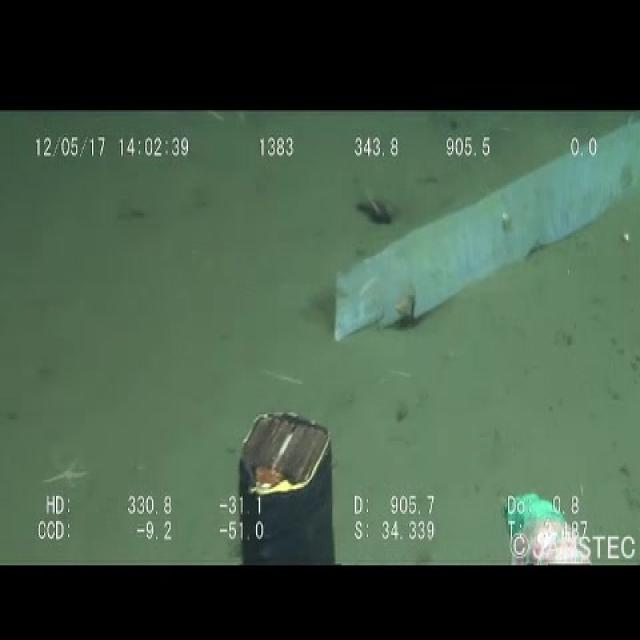plastic: (325, 117, 639, 345)
